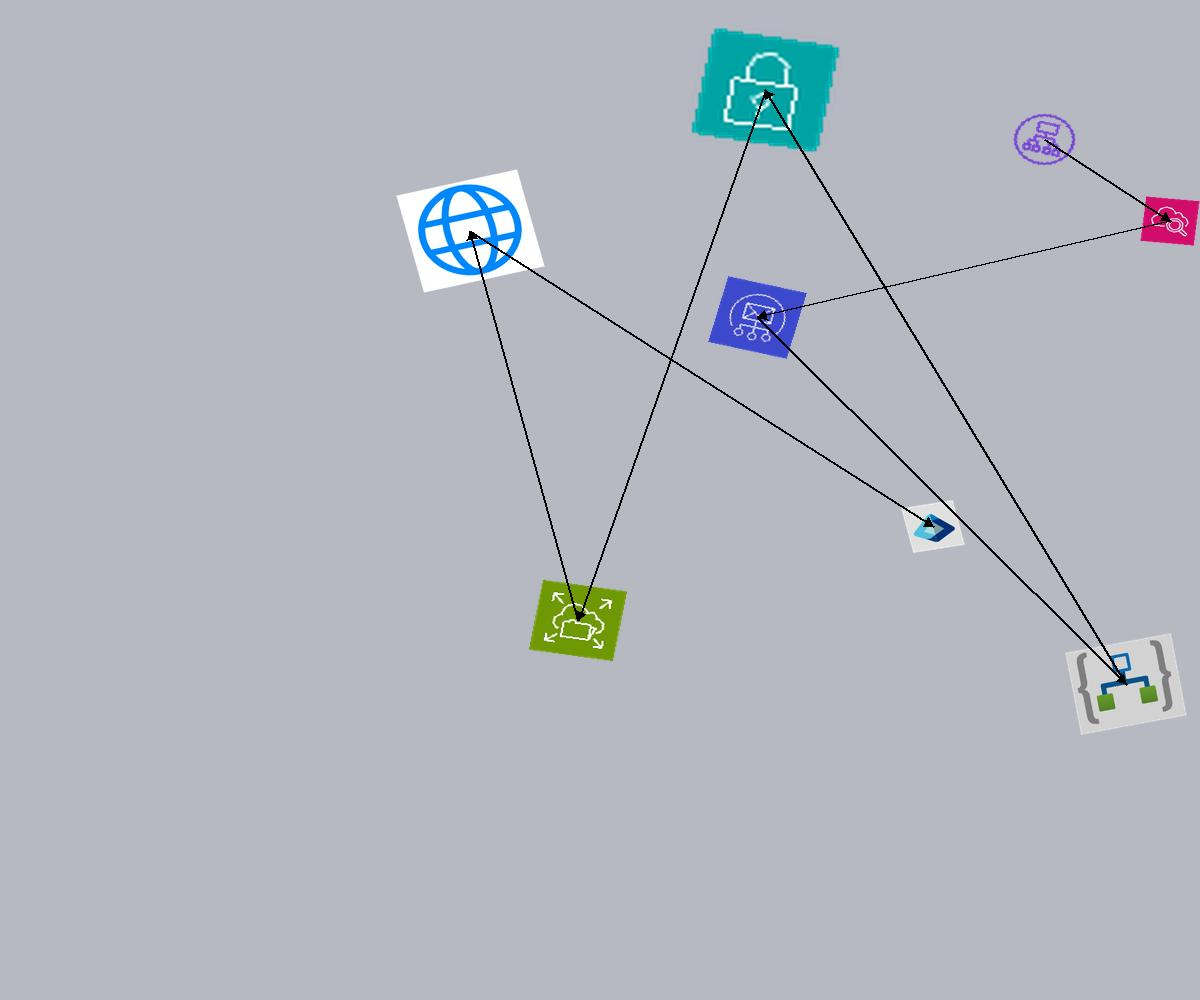AWS-CloudWatch: (1140, 196, 1200, 246)
AWS-EFS: (528, 579, 628, 662)
AWS-Private-subnet: (689, 26, 842, 154)
AWS-Res_Elastic-Load-Balancing_Application-Load-Balancer: (1003, 105, 1086, 174)
AWS-Simple-Email-Service: (708, 276, 807, 359)
Azure_http: (396, 169, 545, 293)
Azure_integration-204-Logic-Apps: (1065, 633, 1187, 735)
Azure_microsoft_entra: (901, 500, 965, 553)
